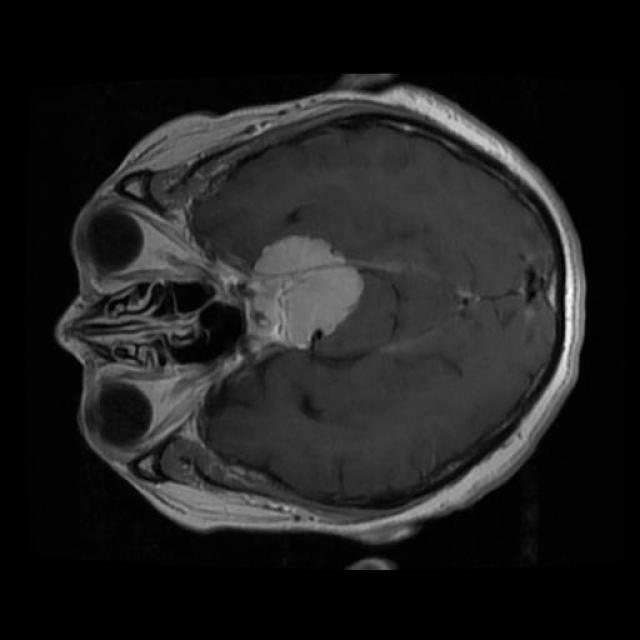Meningioma: (251, 236, 363, 348)
